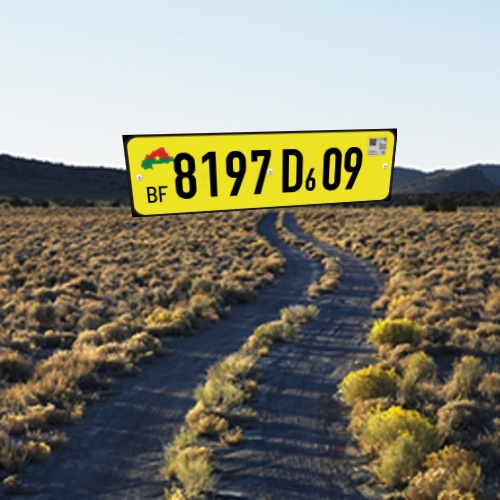plate: (109, 122, 406, 224)
